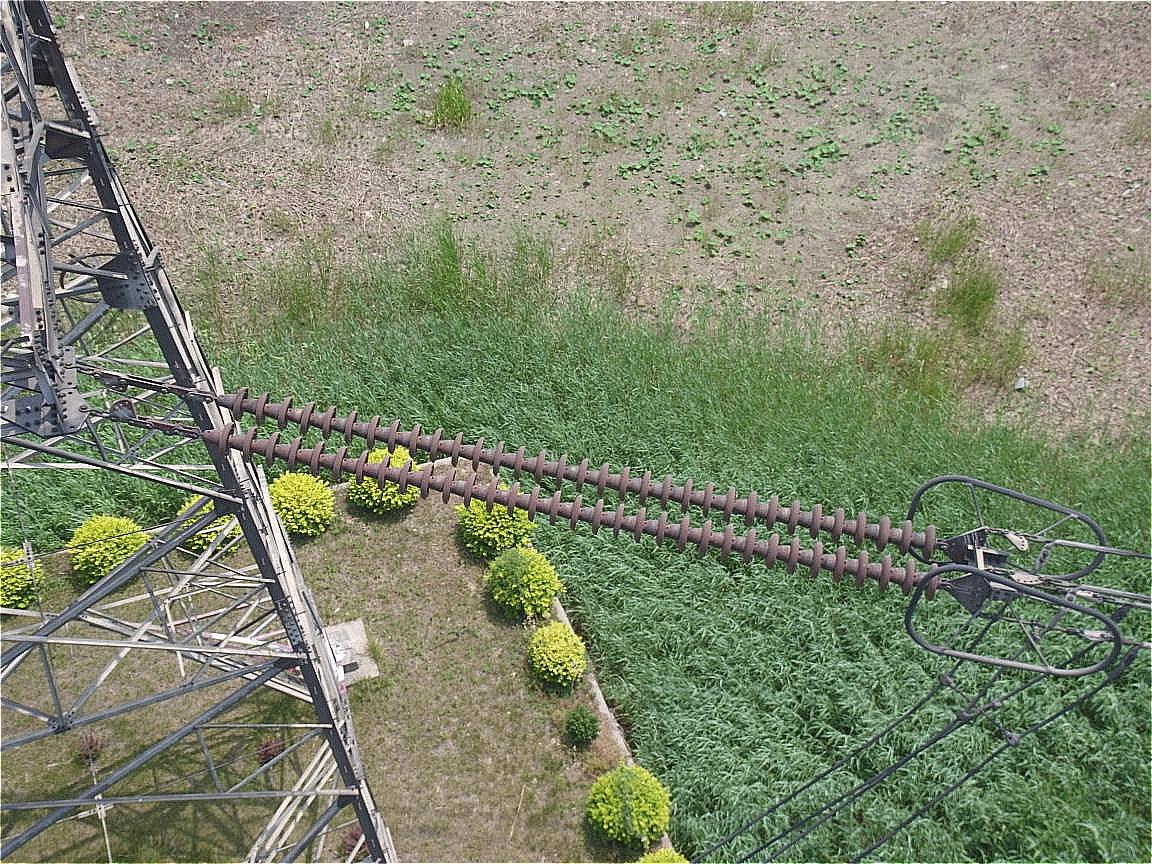insultor1: (190, 377, 985, 604)
